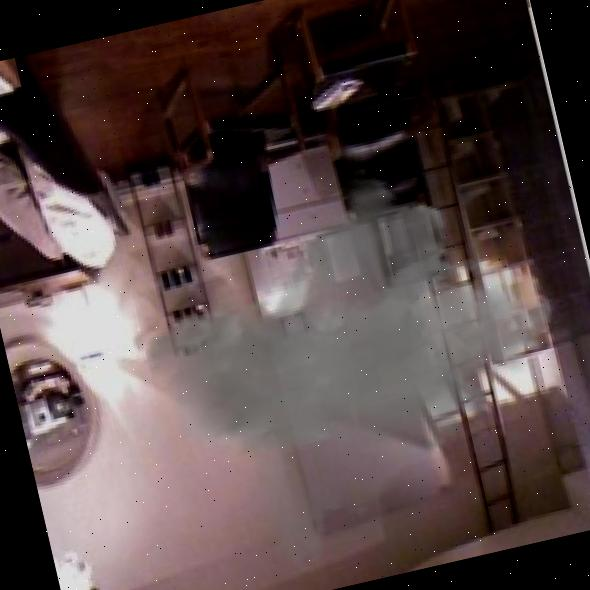smoke: (111, 131, 590, 590)
